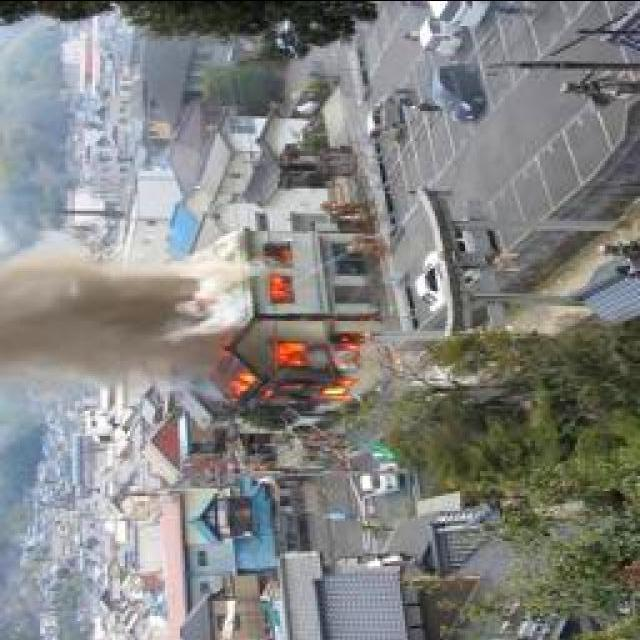Fire: (231, 341, 364, 404), (268, 264, 298, 310)
